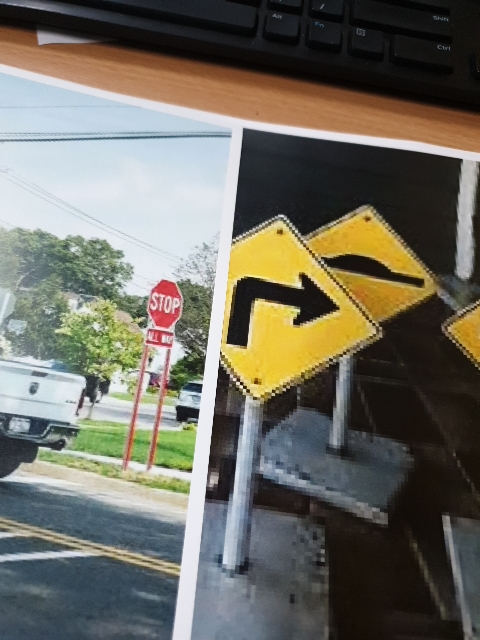right: (223, 208, 370, 390)
stop: (137, 273, 219, 350)
